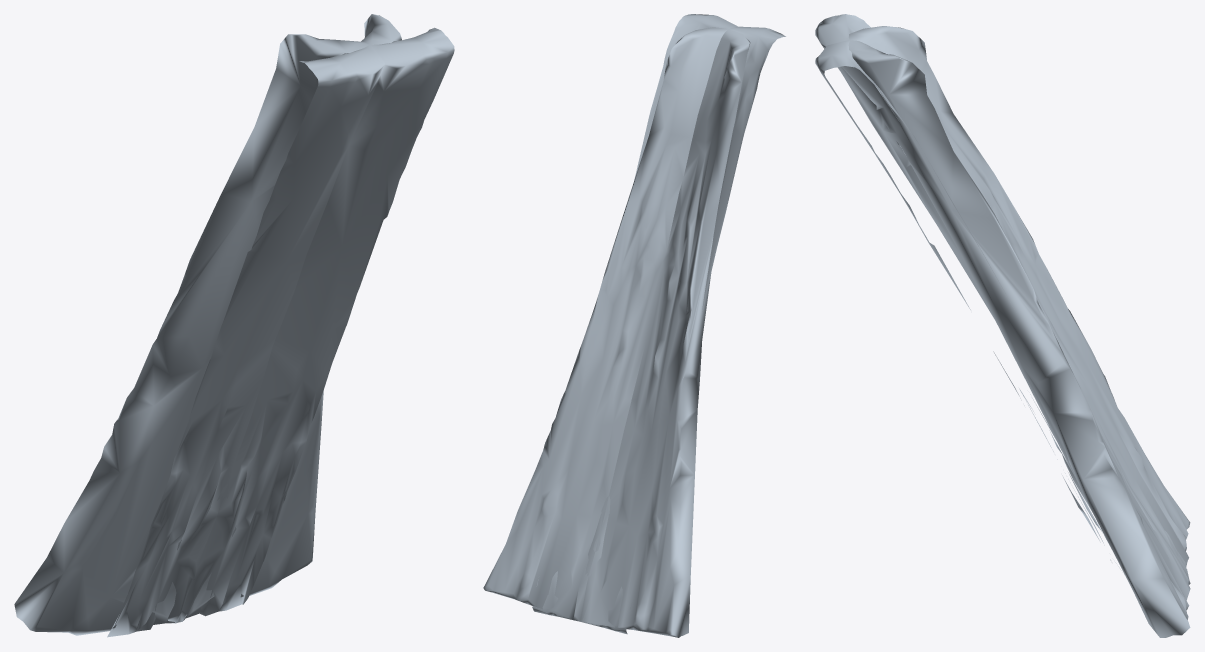
File: median-cricothyroid-ligament.glb
3 views of the same model, side by side, from view 1: azimuth 30°, elevation 25°; view 2: azimuth 150°, elevation 25°; view 3: azimuth 270°, elevation 25° (orthographic). The views are drawn at different scales.
Visible parts, largest first — view 1: Median cricothyroid ligament; view 2: Median cricothyroid ligament; view 3: Median cricothyroid ligament.
Boxes of the visible parts, x1,y1,x2,y2 form: Median cricothyroid ligament: (14,14,454,637); Median cricothyroid ligament: (483,14,785,637); Median cricothyroid ligament: (815,14,1190,637).
Size of the model in its own units: 0.0053 by 0.0129 by 0.0078.
